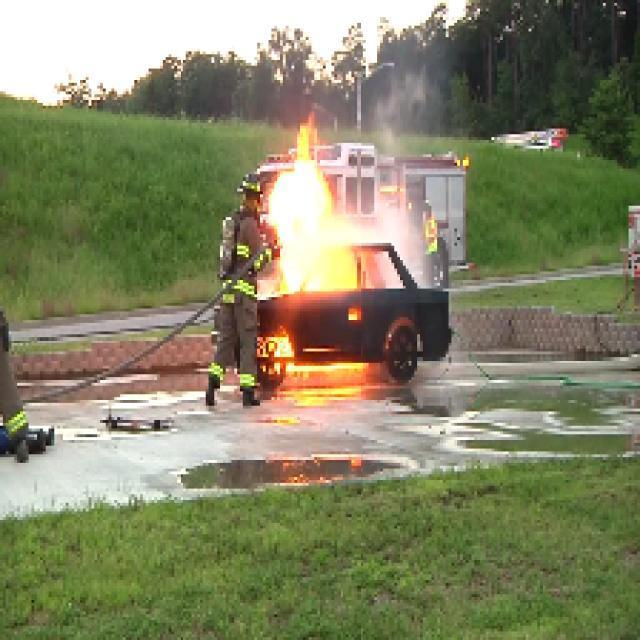Fire: (212, 115, 384, 282)
